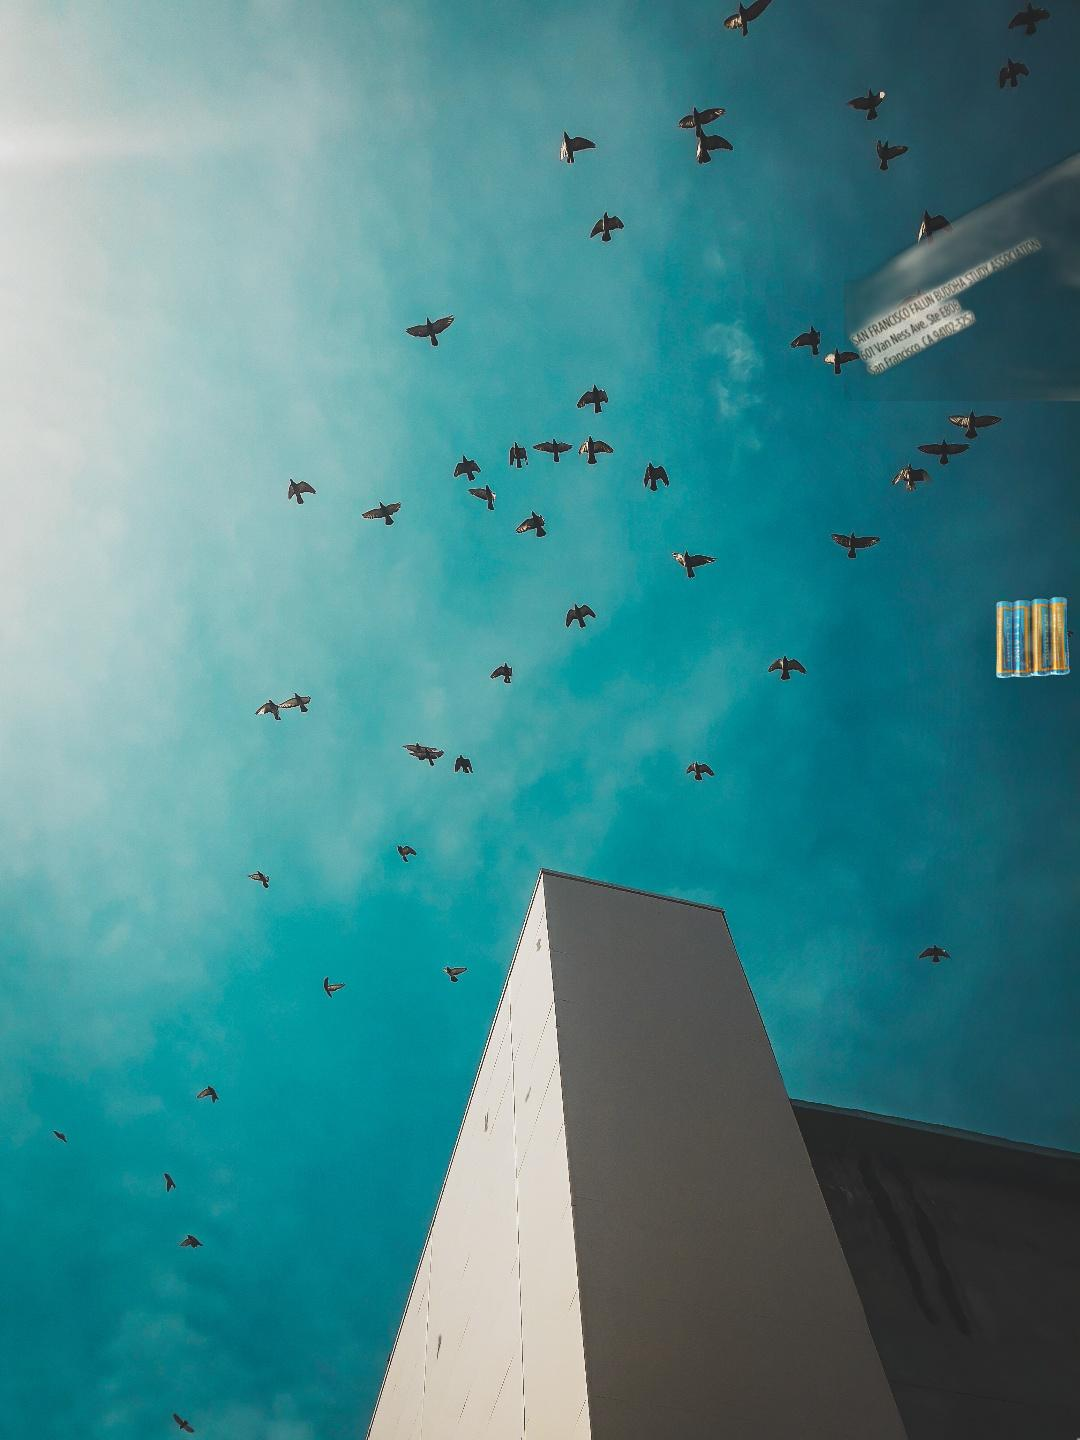battery: (993, 592, 1080, 681)
paper: (844, 101, 1080, 401)
shoes: (1045, 1435, 1080, 1440)
